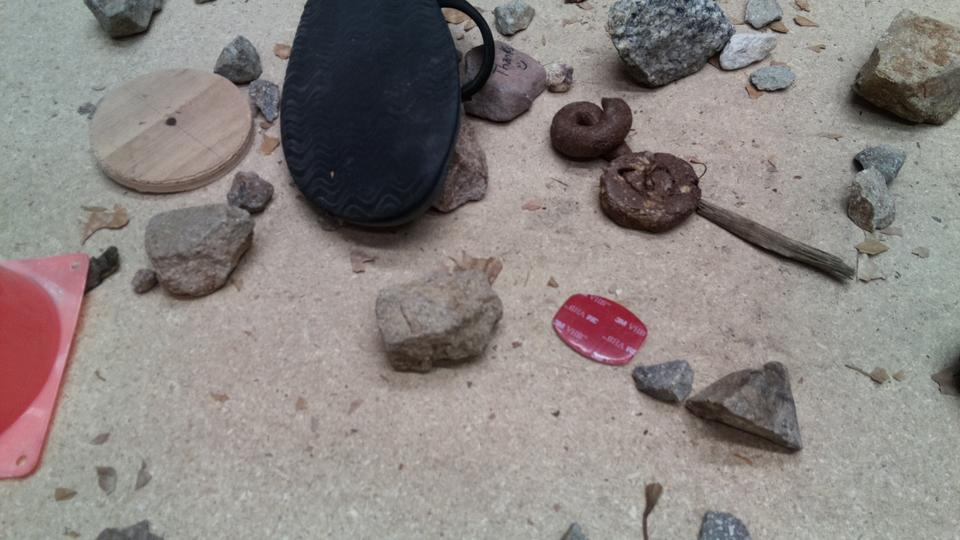poop: (597, 150, 703, 234), (550, 94, 640, 159)
